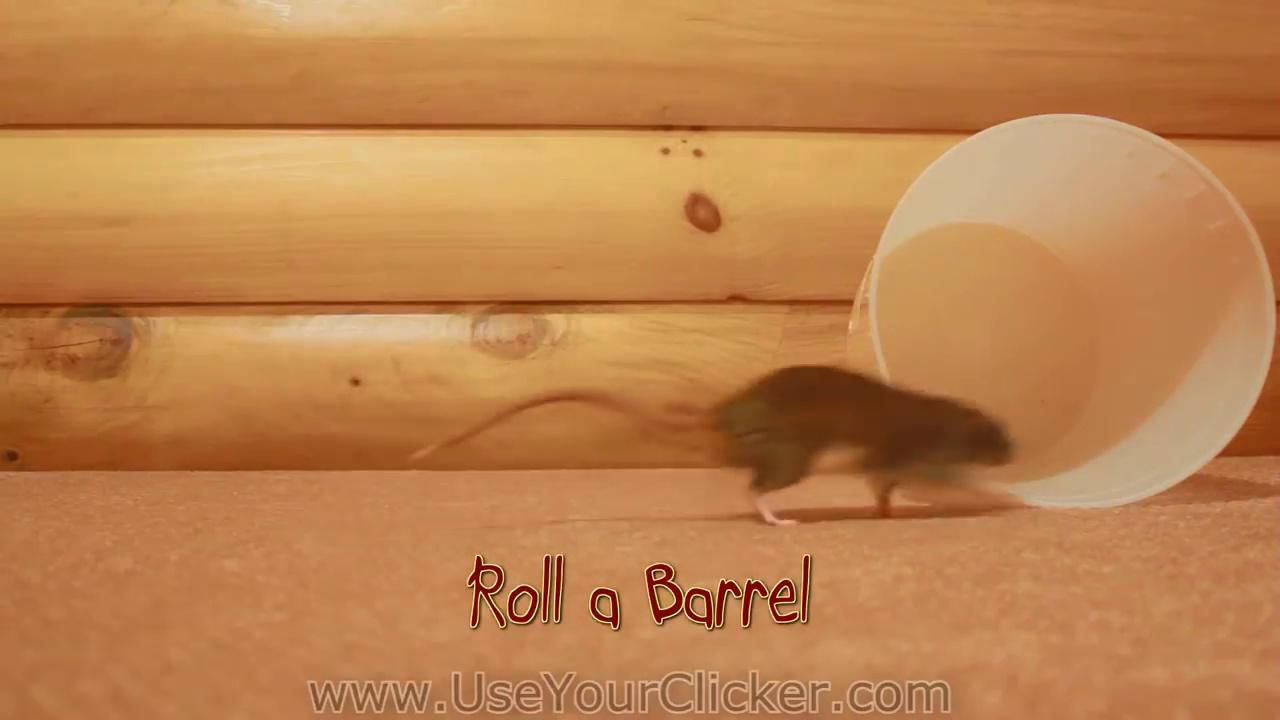rat: (409, 365, 1012, 528)
